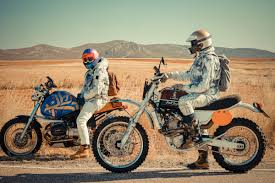motorcycle: (89, 56, 269, 176), (1, 76, 140, 161)
